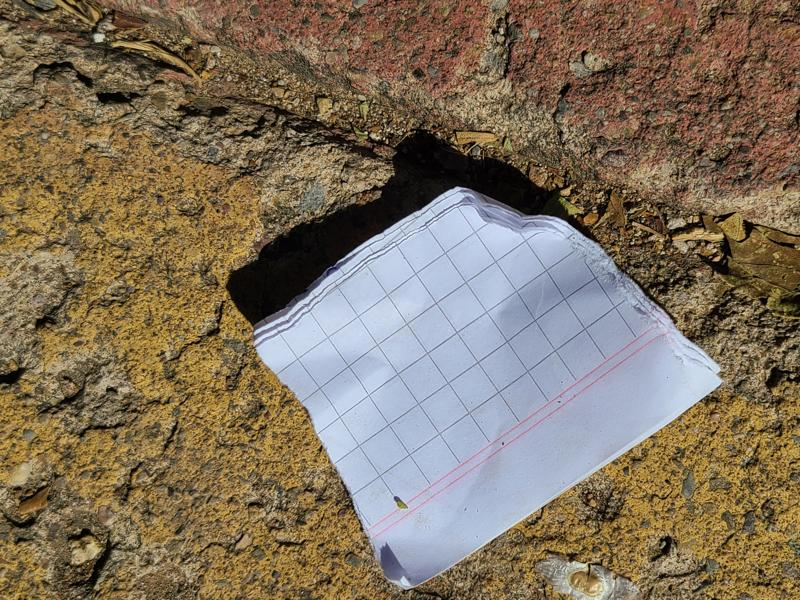papel: (231, 186, 724, 592)
